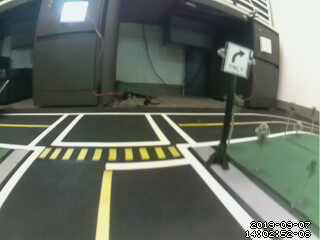Right_only_sign: (224, 41, 250, 78)
